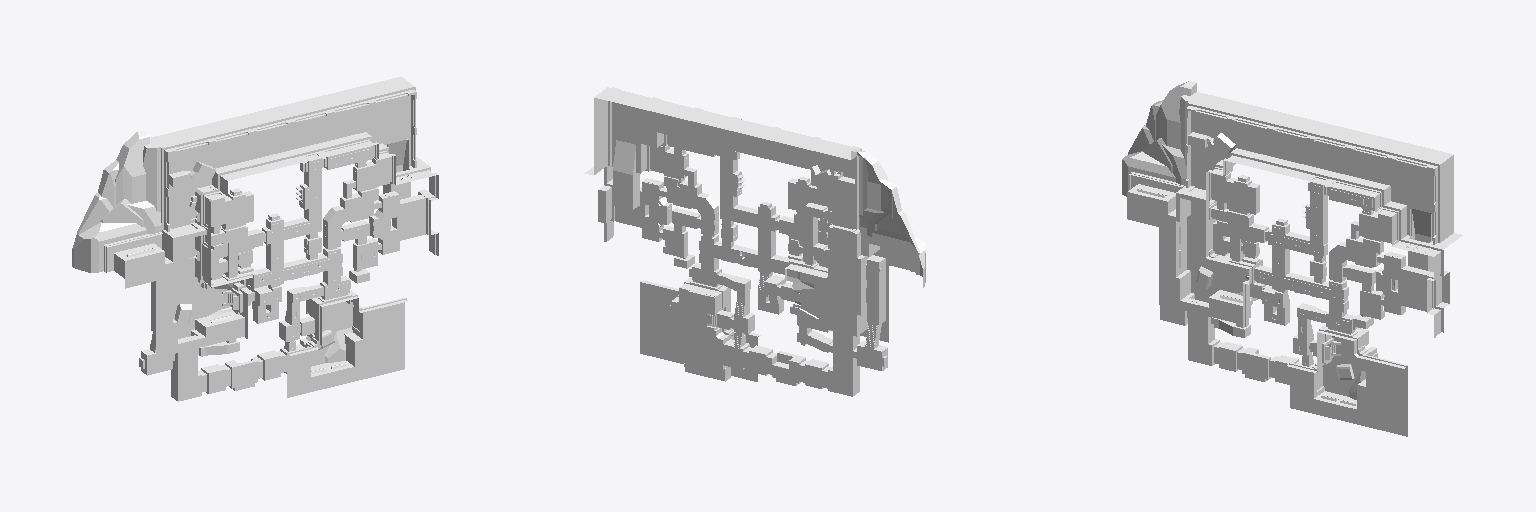
The model's file is Office.obj.
3 renders of one model, left to right at view 1: azimuth 30°, elevation 25°; view 2: azimuth 150°, elevation 25°; view 3: azimuth 330°, elevation 25°, orthographic.
Parts seen in each view (by area): view 1: BSP_Object.model_0, BSP_Object.model_165; view 2: BSP_Object.model_0, BSP_Object.model_165; view 3: BSP_Object.model_0.
Boxes of the visible parts, x1=… form: BSP_Object.model_0: x1=72, y1=76, x2=438, y2=401; BSP_Object.model_165: x1=325, y1=327, x2=352, y2=362; BSP_Object.model_0: x1=584, y1=87, x2=925, y2=396; BSP_Object.model_165: x1=668, y1=327, x2=698, y2=363; BSP_Object.model_0: x1=1122, y1=81, x2=1462, y2=436.
Size of the model in its own units: 128 by 101 by 18.8.